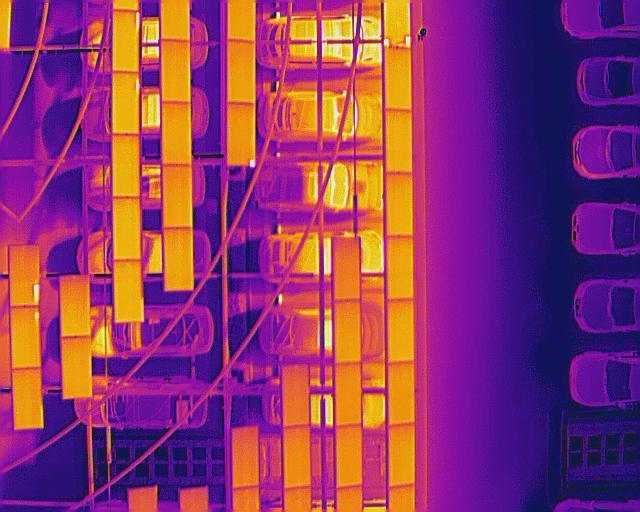Cell: (10, 305, 41, 369), (227, 103, 255, 166)
Cell-Multi: (384, 0, 412, 49)
No-Anomaly: (160, 100, 193, 166), (161, 164, 193, 229), (60, 273, 91, 338), (163, 227, 194, 291), (383, 108, 413, 174), (61, 336, 92, 398), (114, 261, 145, 322), (386, 236, 415, 301), (113, 196, 142, 260), (385, 173, 414, 237), (13, 369, 44, 428), (161, 40, 190, 103), (228, 39, 256, 104), (334, 236, 361, 302), (387, 300, 415, 363), (112, 134, 140, 197), (386, 362, 414, 424), (334, 300, 361, 364), (284, 426, 311, 490), (388, 424, 415, 488), (283, 364, 310, 427), (335, 362, 361, 427), (384, 48, 411, 109), (337, 424, 362, 489), (233, 427, 258, 490), (228, 0, 256, 42), (160, 0, 189, 39)
Unclassified: (9, 243, 40, 308), (113, 8, 140, 72), (113, 71, 140, 134)
